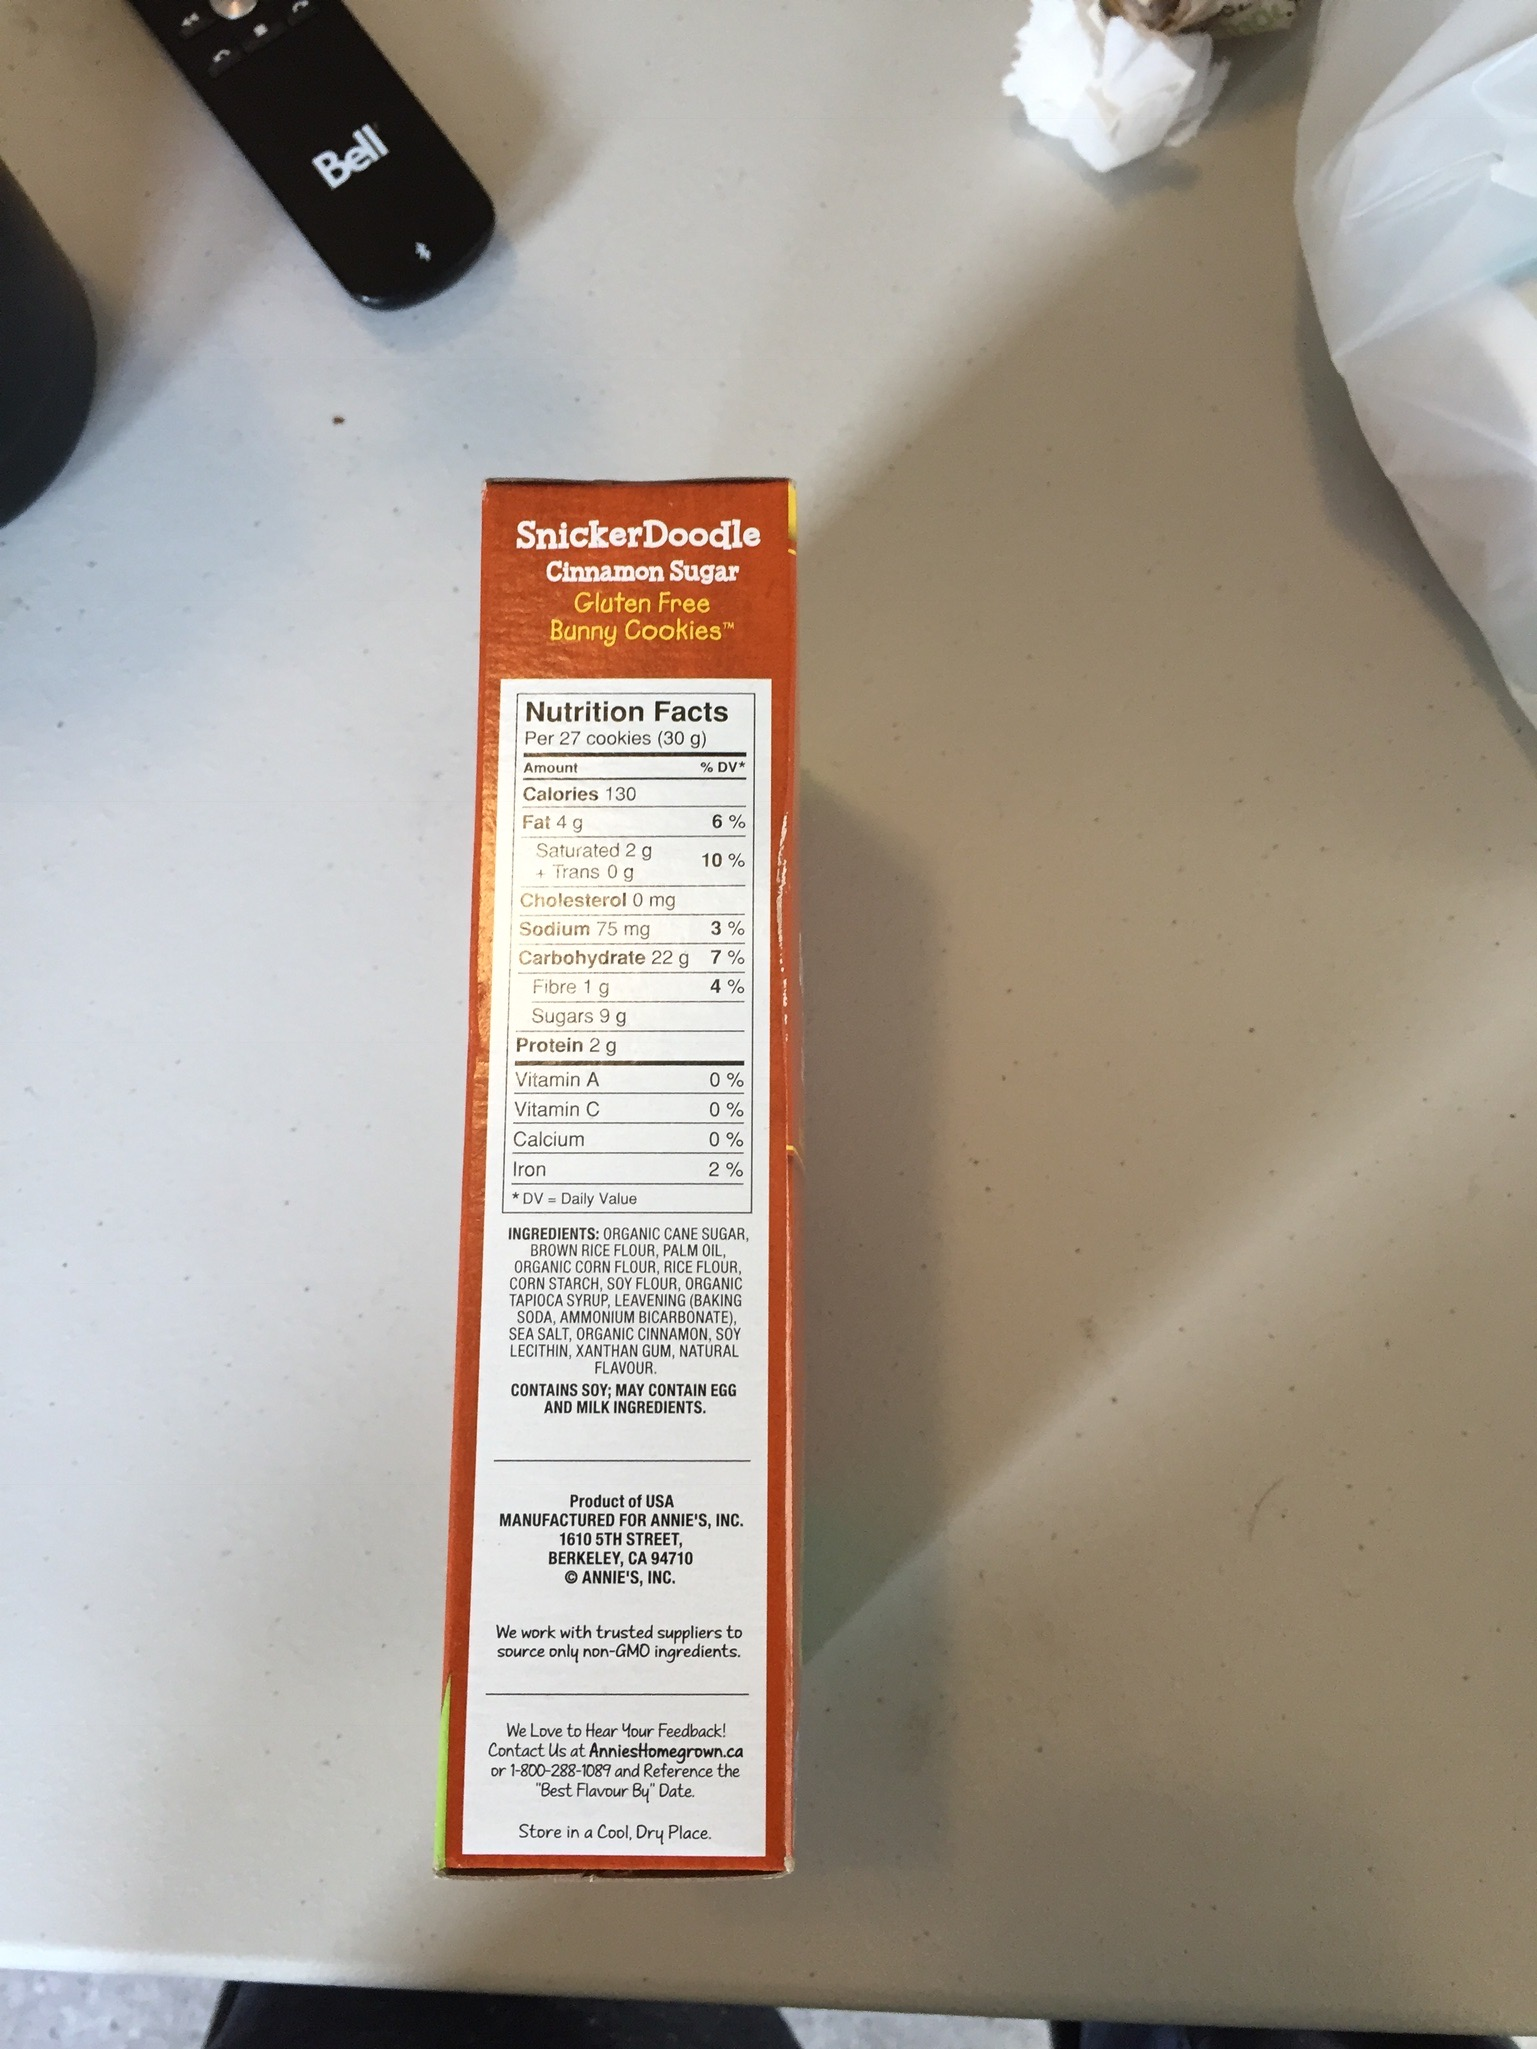annies_snickerdoodles_cinnamon_sugar: (483, 484, 778, 1867)
